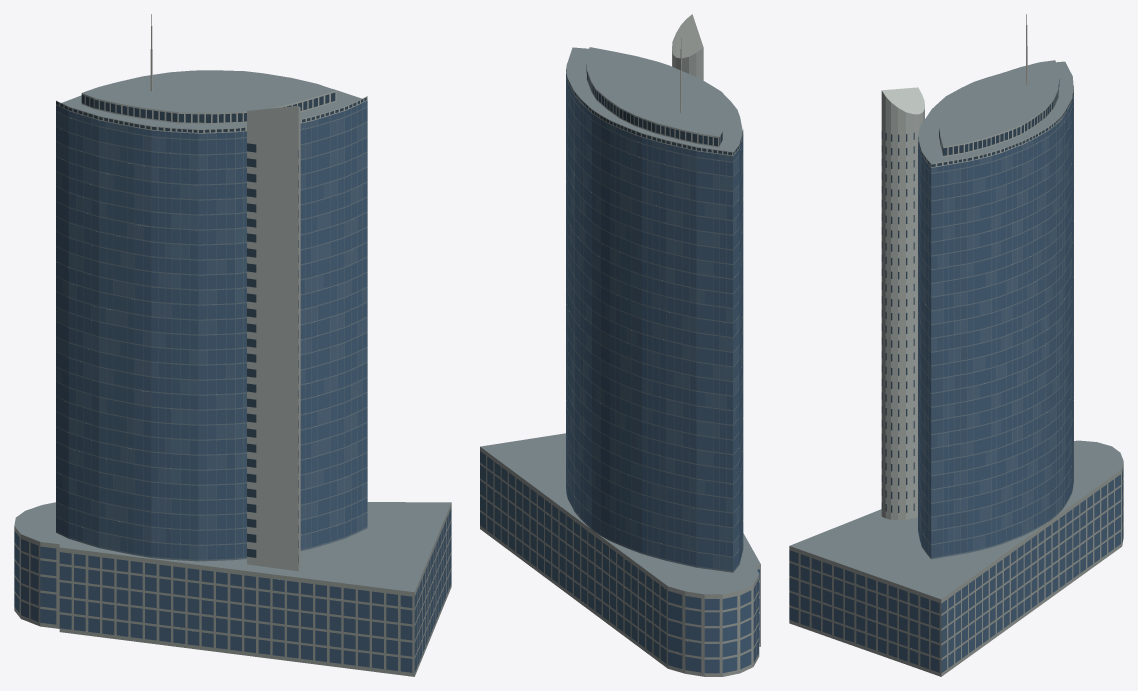
The model's file is parus-business-centre-near.glb.
The picture shows the model from 3 angles, left to right: view 1: azimuth 30°, elevation 25°; view 2: azimuth 150°, elevation 25°; view 3: azimuth 270°, elevation 25°; orthographic projection. The views are drawn at different scales.
Parts seen in each view (by area): view 1: parus-business-centre-0-glass, parus-business-centre-0-glaze, parus-business-centre-0-metal, parus-business-centre-0-frame, parus-business-centre-0-roof, parus-business-centre-0-podium, parus-business-centre-0-vent; view 2: parus-business-centre-0-glass, parus-business-centre-0-glaze, parus-business-centre-0-roof, parus-business-centre-0-frame, parus-business-centre-0-podium, parus-business-centre-0-metal, parus-business-centre-0-vent; view 3: parus-business-centre-0-glass, parus-business-centre-0-roof, parus-business-centre-0-metal, parus-business-centre-0-frame, parus-business-centre-0-glaze, parus-business-centre-0-podium, parus-business-centre-0-vent.
Boxes of the visible parts, x1=… form: parus-business-centre-0-glass: x1=14, y1=103, x2=451, y2=672; parus-business-centre-0-glaze: x1=56, y1=101, x2=367, y2=559; parus-business-centre-0-metal: x1=56, y1=90, x2=367, y2=571; parus-business-centre-0-frame: x1=56, y1=101, x2=367, y2=561; parus-business-centre-0-roof: x1=14, y1=70, x2=451, y2=592; parus-business-centre-0-podium: x1=14, y1=503, x2=451, y2=676; parus-business-centre-0-vent: x1=56, y1=92, x2=366, y2=562; parus-business-centre-0-glass: x1=480, y1=78, x2=759, y2=673; parus-business-centre-0-glaze: x1=566, y1=73, x2=743, y2=571; parus-business-centre-0-roof: x1=480, y1=47, x2=760, y2=594; parus-business-centre-0-frame: x1=566, y1=79, x2=743, y2=572; parus-business-centre-0-podium: x1=480, y1=447, x2=760, y2=676; parus-business-centre-0-metal: x1=566, y1=14, x2=743, y2=155; parus-business-centre-0-vent: x1=566, y1=65, x2=742, y2=155; parus-business-centre-0-glass: x1=789, y1=98, x2=1123, y2=672; parus-business-centre-0-roof: x1=790, y1=60, x2=1123, y2=599; parus-business-centre-0-metal: x1=881, y1=78, x2=1073, y2=519; parus-business-centre-0-frame: x1=918, y1=90, x2=1073, y2=559; parus-business-centre-0-glaze: x1=918, y1=93, x2=1073, y2=557; parus-business-centre-0-podium: x1=789, y1=462, x2=1123, y2=676; parus-business-centre-0-vent: x1=881, y1=79, x2=1073, y2=512.
Bounding box in the file's own units: 96.72 × 156 × 85.96.
